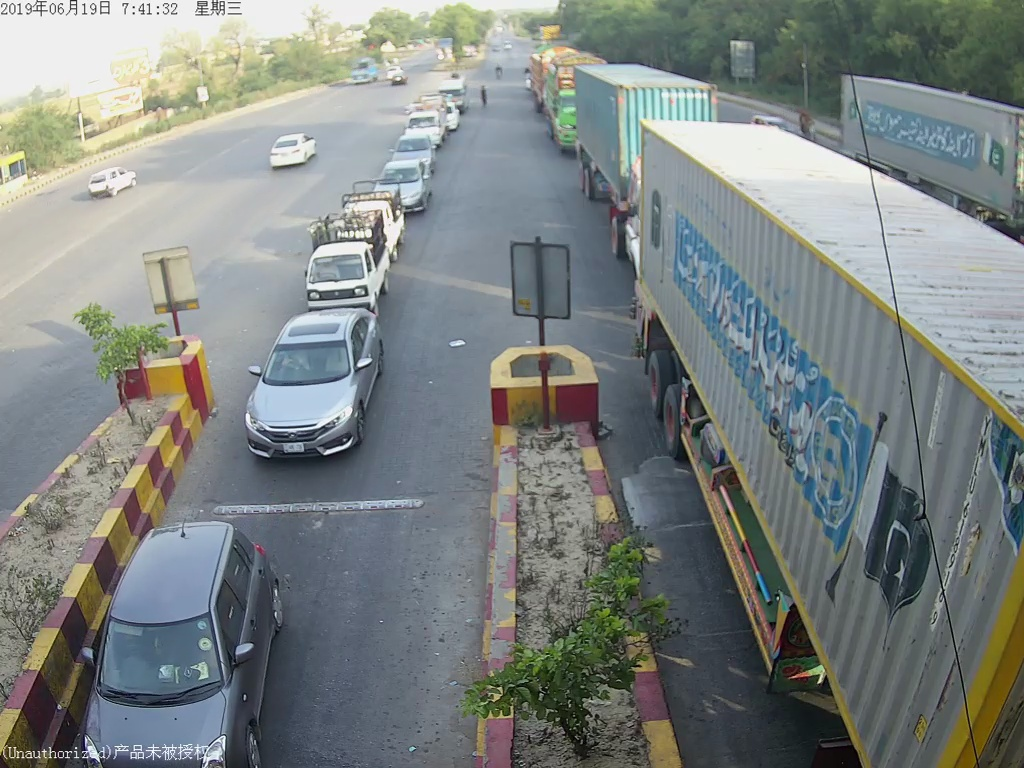Cat-1: (94, 529, 284, 742), (243, 312, 390, 466), (306, 215, 389, 303)
